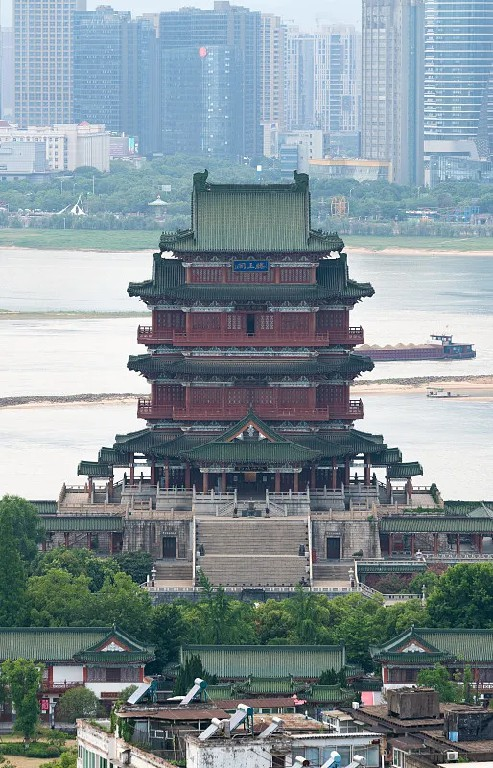Teng: (78, 168, 423, 488)
